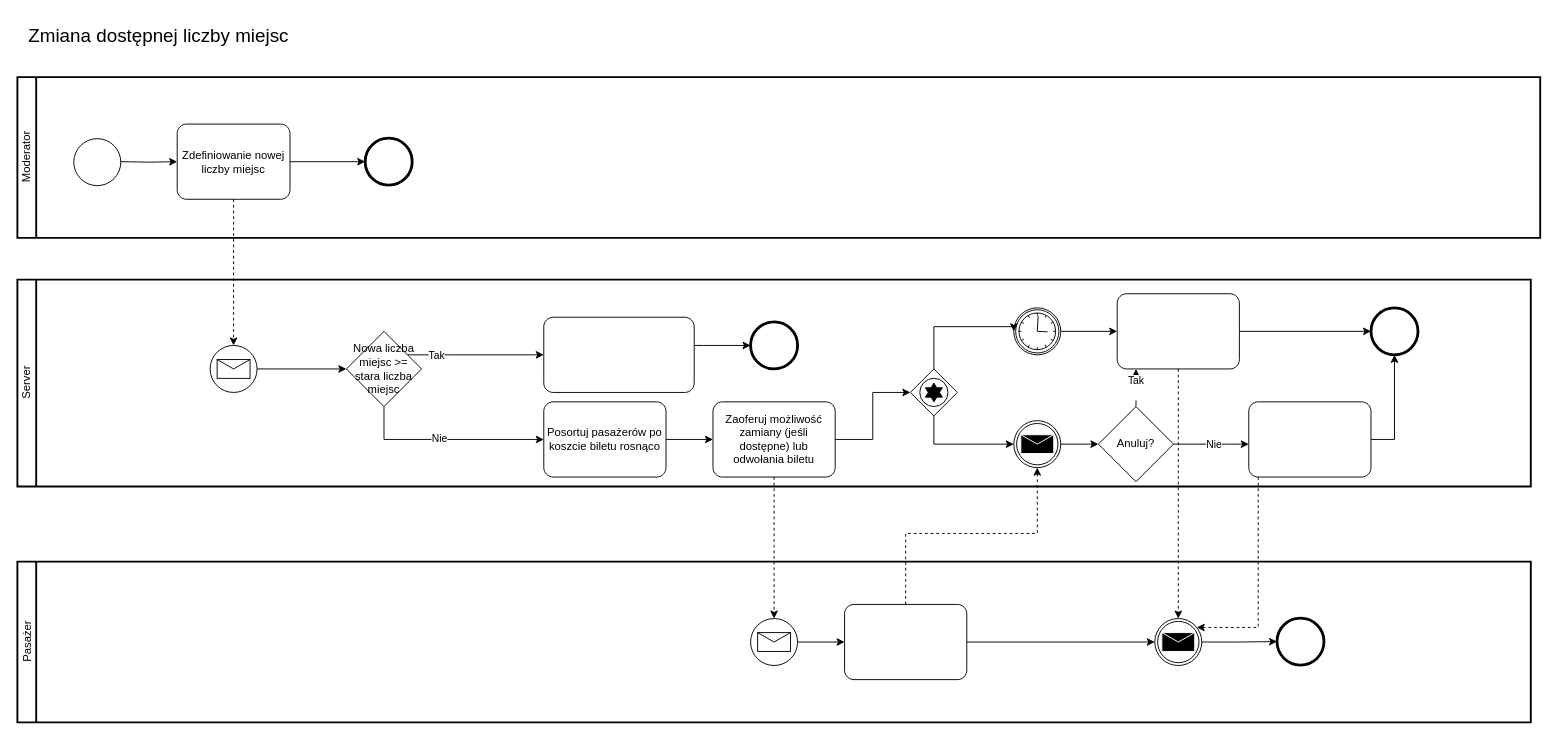
Image size: 1557x739. Some labels were removed from this diagram. Here are the shapes that lost their labels. From the top down, the centre of each, then its label:
At point 1177,331: "Anuluj bilet".
At point 618,354: "Ustaw nową liczbę miejsc".
At point 1309,439: "Dokonaj modyfikacji biletu".
At point 905,641: "Wybierz dostepną opcję".
